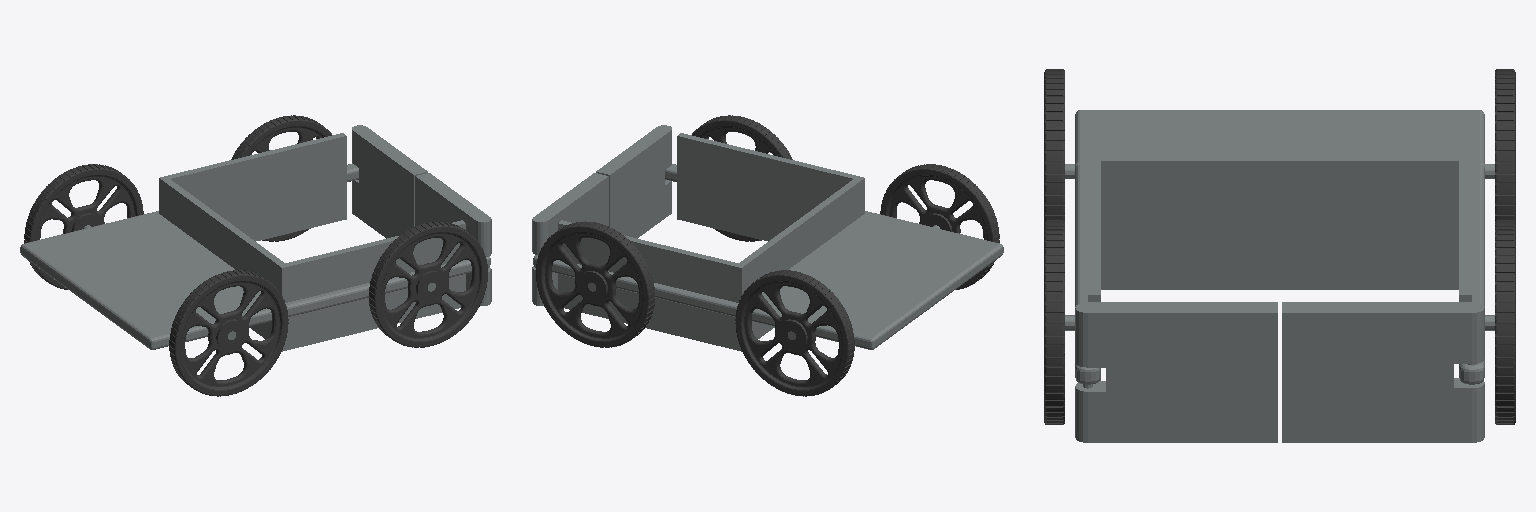
The robot description file, URDF, robot "ballrobot":
<?xml version="1.0" encoding="utf-8"?>
<!-- This URDF was automatically created by SolidWorks to URDF Exporter! Originally created by [author] ([email redacted]) 
     Commit Version: 1.6.0-4-g7f85cfe  Build Version: 1.6.7995.38578
     For more information, please see http://wiki.ros.org/sw_urdf_exporter -->
<robot
  name="ballrobot">
  <link
    name="base_link">
    <inertial>
      <origin
        xyz="-0.060656 -3.3953E-08 0.1"
        rpy="0 0 0" />
      <mass
        value="30.128" />
      <inertia
        ixx="0.62458"
        ixy="9.5848E-08"
        ixz="2.8849E-10"
        iyy="0.70315"
        iyz="3.6924E-11"
        izz="1.2817" />
    </inertial>
    <visual>
      <origin
        xyz="0 0 0"
        rpy="0 0 0" />
      <geometry>
        <mesh
          filename="package://ballrobot/meshes/base_link.STL" />
      </geometry>
      <material
        name="">
        <color
          rgba="0.52941 0.54902 0.54902 1" />
      </material>
    </visual>
    <collision>
      <origin
        xyz="0 0 0"
        rpy="0 0 0" />
      <geometry>
        <mesh
          filename="package://ballrobot/meshes/base_link.STL" />
      </geometry>
    </collision>
  </link>
  <link
    name="FL_Wheel">
    <inertial>
      <origin
        xyz="2.7756E-17 0.01 -1.3169E-16"
        rpy="0 0 0" />
      <mass
        value="0.29309" />
      <inertia
        ixx="0.00090526"
        ixy="-4.5898E-20"
        ixz="7.9331E-19"
        iyy="0.0017973"
        iyz="-5.1941E-21"
        izz="0.00090526" />
    </inertial>
    <visual>
      <origin
        xyz="0 0 0"
        rpy="0 0 0" />
      <geometry>
        <mesh
          filename="package://ballrobot/meshes/FL_Wheel.STL" />
      </geometry>
      <material
        name="">
        <color
          rgba="0.29804 0.29804 0.29804 1" />
      </material>
    </visual>
    <collision>
      <origin
        xyz="0 0 0"
        rpy="0 0 0" />
      <geometry>
        <mesh
          filename="package://ballrobot/meshes/FL_Wheel.STL" />
      </geometry>
    </collision>
  </link>
  <joint
    name="FL_joint"
    type="continuous">
    <origin
      xyz="0.175 -0.23 0.1"
      rpy="0 0 0" />
    <parent
      link="base_link" />
    <child
      link="FL_Wheel" />
    <axis
      xyz="0 -1 0" />
    <limit
      effort="10"
      velocity="10" />
  </joint>
  <link
    name="FR_Wheel">
    <inertial>
      <origin
        xyz="-1.66533453693773E-16 -0.01 4.16748948438248E-17"
        rpy="0 0 0" />
      <mass
        value="0.293086659627673" />
      <inertia
        ixx="0.000905256868248756"
        ixy="5.99099089183777E-20"
        ixz="-1.81071936351132E-18"
        iyy="0.00179725505357009"
        iyz="-1.96091888376218E-20"
        izz="0.000905256868248957" />
    </inertial>
    <visual>
      <origin
        xyz="0 0 0"
        rpy="0 0 0" />
      <geometry>
        <mesh
          filename="package://ballrobot/meshes/FR_Wheel.STL" />
      </geometry>
      <material
        name="">
        <color
          rgba="0.298039215686275 0.298039215686275 0.298039215686275 1" />
      </material>
    </visual>
    <collision>
      <origin
        xyz="0 0 0"
        rpy="0 0 0" />
      <geometry>
        <mesh
          filename="package://ballrobot/meshes/FR_Wheel.STL" />
      </geometry>
    </collision>
  </link>
  <joint
    name="FR_joint"
    type="continuous">
    <origin
      xyz="0.175 0.23 0.1"
      rpy="0 0 0" />
    <parent
      link="base_link" />
    <child
      link="FR_Wheel" />
    <axis
      xyz="0 1 0" />
    <limit
      effort="10"
      velocity="10" />
  </joint>
  <link
    name="RL_Wheel">
    <inertial>
      <origin
        xyz="3.05311331771918E-16 0.01 -7.60494903186981E-17"
        rpy="0 0 0" />
      <mass
        value="0.293086659627673" />
      <inertia
        ixx="0.000905256868248756"
        ixy="6.51889408525683E-21"
        ixz="6.26944743178317E-20"
        iyy="0.00179725505357009"
        iyz="-2.6431409407267E-20"
        izz="0.000905256868248959" />
    </inertial>
    <visual>
      <origin
        xyz="0 0 0"
        rpy="0 0 0" />
      <geometry>
        <mesh
          filename="package://ballrobot/meshes/RL_Wheel.STL" />
      </geometry>
      <material
        name="">
        <color
          rgba="0.298039215686275 0.298039215686275 0.298039215686275 1" />
      </material>
    </visual>
    <collision>
      <origin
        xyz="0 0 0"
        rpy="0 0 0" />
      <geometry>
        <mesh
          filename="package://ballrobot/meshes/RL_Wheel.STL" />
      </geometry>
    </collision>
  </link>
  <joint
    name="RL_joint"
    type="continuous">
    <origin
      xyz="-0.175 -0.23 0.1"
      rpy="0 0 0" />
    <parent
      link="base_link" />
    <child
      link="RL_Wheel" />
    <axis
      xyz="0 -1 0" />
    <limit
      effort="10"
      velocity="10" />
  </joint>
  <link
    name="RR_Wheel">
    <inertial>
      <origin
        xyz="-1.38777878078145E-16 -0.00999999999999998 -2.19547988732742E-16"
        rpy="0 0 0" />
      <mass
        value="0.293086659627672" />
      <inertia
        ixx="0.000905256868248753"
        ixy="-6.48648136838311E-21"
        ixz="-1.08512363876318E-18"
        iyy="0.00179725505357008"
        iyz="-3.10233119385734E-20"
        izz="0.000905256868248956" />
    </inertial>
    <visual>
      <origin
        xyz="0 0 0"
        rpy="0 0 0" />
      <geometry>
        <mesh
          filename="package://ballrobot/meshes/RR_Wheel.STL" />
      </geometry>
      <material
        name="">
        <color
          rgba="0.298039215686275 0.298039215686275 0.298039215686275 1" />
      </material>
    </visual>
    <collision>
      <origin
        xyz="0 0 0"
        rpy="0 0 0" />
      <geometry>
        <mesh
          filename="package://ballrobot/meshes/RR_Wheel.STL" />
      </geometry>
    </collision>
  </link>
  <joint
    name="RR_Joint"
    type="continuous">
    <origin
      xyz="-0.175 0.23 0.1"
      rpy="0 0 0" />
    <parent
      link="base_link" />
    <child
      link="RR_Wheel" />
    <axis
      xyz="0 1 0" />
    <limit
      effort="10"
      velocity="10" />
  </joint>
  <link
    name="L_hand">
    <inertial>
      <origin
        xyz="0 0.0912922100205346 -0.0699559788439906"
        rpy="0 0 0" />
      <mass
        value="5.12382990996477" />
      <inertia
        ixx="0.0239436769326506"
        ixy="3.50383167062989E-19"
        ixz="1.54800646830182E-19"
        iyy="0.00882901814263977"
        iyz="1.96488876568737E-05"
        izz="0.0156491094539096" />
    </inertial>
    <visual>
      <origin
        xyz="0 0 0"
        rpy="0 0 0" />
      <geometry>
        <mesh
          filename="package://ballrobot/meshes/L_hand.STL" />
      </geometry>
      <material
        name="">
        <color
          rgba="0.529411764705882 0.549019607843137 0.549019607843137 1" />
      </material>
    </visual>
    <collision>
      <origin
        xyz="0 0 0"
        rpy="0 0 0" />
      <geometry>
        <mesh
          filename="package://ballrobot/meshes/L_hand.STL" />
      </geometry>
    </collision>
  </link>
  <joint
    name="LH_joint"
    type="revolute">
    <origin
      xyz="0.29 -0.1875 0.17"
      rpy="0 0 0" />
    <parent
      link="base_link" />
    <child
      link="L_hand" />
    <axis
      xyz="0 0 -1" />
    <limit
      lower="0"
      upper="3.14"
      effort="10"
      velocity="10" />
  </joint>
  <link
    name="R_hand">
    <inertial>
      <origin
        xyz="-5.5511E-17 -0.091292 -0.070044"
        rpy="0 0 0" />
      <mass
        value="5.1238" />
      <inertia
        ixx="0.023944"
        ixy="1.3029E-19"
        ixz="3.1466E-19"
        iyy="0.008829"
        iyz="1.9649E-05"
        izz="0.015649" />
    </inertial>
    <visual>
      <origin
        xyz="0 0 0"
        rpy="0 0 0" />
      <geometry>
        <mesh
          filename="package://ballrobot/meshes/R_hand.STL" />
      </geometry>
      <material
        name="">
        <color
          rgba="0.52941 0.54902 0.54902 1" />
      </material>
    </visual>
    <collision>
      <origin
        xyz="0 0 0"
        rpy="0 0 0" />
      <geometry>
        <mesh
          filename="package://ballrobot/meshes/R_hand.STL" />
      </geometry>
    </collision>
  </link>
  <joint
    name="RH_joint"
    type="revolute">
    <origin
      xyz="0.29 0.1875 0.17"
      rpy="0 0 0" />
    <parent
      link="base_link" />
    <child
      link="R_hand" />
    <axis
      xyz="0 0 -1" />
    <limit
      lower="-3.14"
      upper="0"
      effort="10"
      velocity="10" />
  </joint>
</robot>

--- Render facts (derived) ---
The picture shows the robot from 3 angles, left to right: view 1: azimuth 30°, elevation 25°; view 2: azimuth 150°, elevation 25°; view 3: azimuth 270°, elevation 25°; orthographic projection.
Robot: ballrobot — 7 links, 6 joints (2 revolute, 4 continuous); root link base_link; default pose: all joints at 0.
Links seen in each view (by area): view 1: base_link, RL_Wheel, FL_Wheel, R_hand, RR_Wheel, L_hand, FR_Wheel; view 2: base_link, FR_Wheel, RR_Wheel, L_hand, RL_Wheel, R_hand, FL_Wheel; view 3: base_link, L_hand, R_hand, FL_Wheel, FR_Wheel, RL_Wheel, RR_Wheel.
Boxes of the visible links, x1,y1,x2,y2 form: base_link: (20,127,490,351); RL_Wheel: (169,270,288,396); FL_Wheel: (369,221,487,347); R_hand: (352,125,427,238); RR_Wheel: (24,164,143,289); L_hand: (415,173,491,305); FR_Wheel: (231,115,331,241); base_link: (533,127,1003,351); FR_Wheel: (536,221,654,347); RR_Wheel: (735,270,854,396); L_hand: (596,125,671,238); RL_Wheel: (880,164,999,289); R_hand: (532,173,608,305); FL_Wheel: (692,115,792,241); base_link: (1065,110,1494,388); L_hand: (1075,302,1277,442); R_hand: (1282,302,1484,442); FL_Wheel: (1044,220,1064,424); FR_Wheel: (1495,220,1515,424); RL_Wheel: (1044,69,1064,222); RR_Wheel: (1495,69,1515,222).
Size in the robot's own frame: 0.6025 by 0.46 by 0.2 metres.
Meshes: 7 distinct files referenced, 7 mesh visuals loaded (7 binary STL).